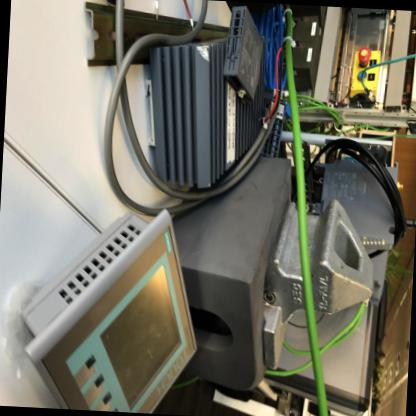CornerCasting: (162, 130, 286, 400)
Twistlock: (258, 182, 378, 378)
